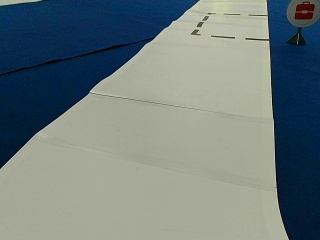company: (286, 0, 319, 26)
